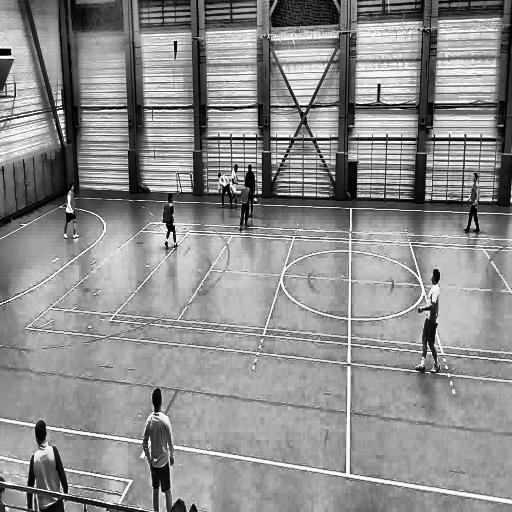ball: (253, 196, 258, 206)
player: (142, 387, 176, 510), (414, 262, 442, 377), (463, 171, 482, 235), (162, 191, 180, 252), (64, 184, 80, 243), (216, 168, 234, 212), (238, 180, 252, 234), (245, 160, 256, 220), (230, 162, 242, 210)
